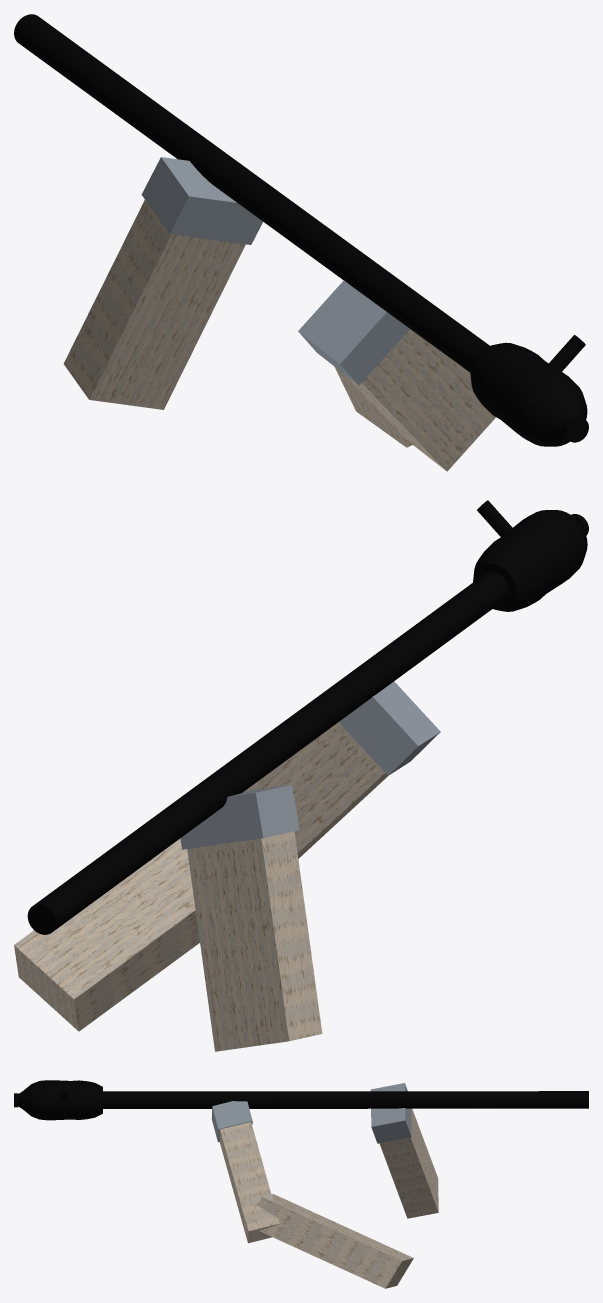
Rendered from bazooka.glb.
3 renders of one model, top to bottom at view 1: azimuth 30°, elevation 25°; view 2: azimuth 150°, elevation 25°; view 3: azimuth 270°, elevation 25°, orthographic. The views are drawn at different scales.
Parts seen in each view (by area): view 1: Cylindre.009, Cube.102, Cube.207, Cube.101, Cube.208, Cube.210; view 2: Cylindre.009, Cube.102, Cube.210, Cube.207, Cube.208, Cube.101; view 3: Cylindre.009, Cube.210, Cube.207, Cube.102, Cube.101, Cube.208.
Boxes of the visible parts, x1,y1,x2,y2 form: Cylindre.009: [14, 14, 588, 446]; Cube.102: [63, 200, 245, 409]; Cube.207: [344, 329, 495, 471]; Cube.101: [141, 157, 262, 244]; Cube.208: [298, 280, 409, 385]; Cube.210: [335, 367, 415, 447]; Cylindre.009: [27, 500, 588, 934]; Cube.102: [187, 831, 322, 1051]; Cube.210: [14, 838, 199, 1031]; Cube.207: [244, 722, 388, 858]; Cube.208: [339, 681, 440, 775]; Cube.101: [180, 784, 299, 849]; Cylindre.009: [14, 1080, 588, 1120]; Cube.210: [245, 1194, 413, 1288]; Cube.207: [219, 1122, 279, 1243]; Cube.102: [379, 1108, 438, 1218]; Cube.101: [370, 1083, 411, 1143]; Cube.208: [211, 1101, 252, 1142].
Bounding box in the file's own units: 0.8584 × 0.8262 × 2.47.
Materials: 6 (3 with a texture image).
